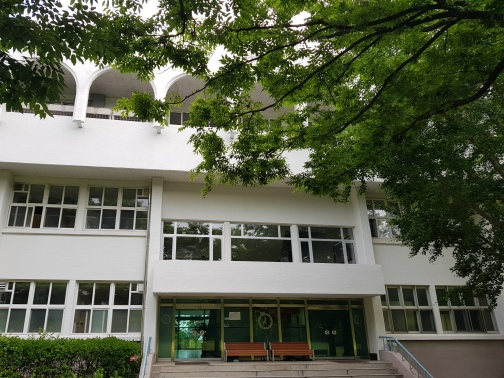Main Building of University: (9, 55, 496, 378), (126, 170, 408, 369)
